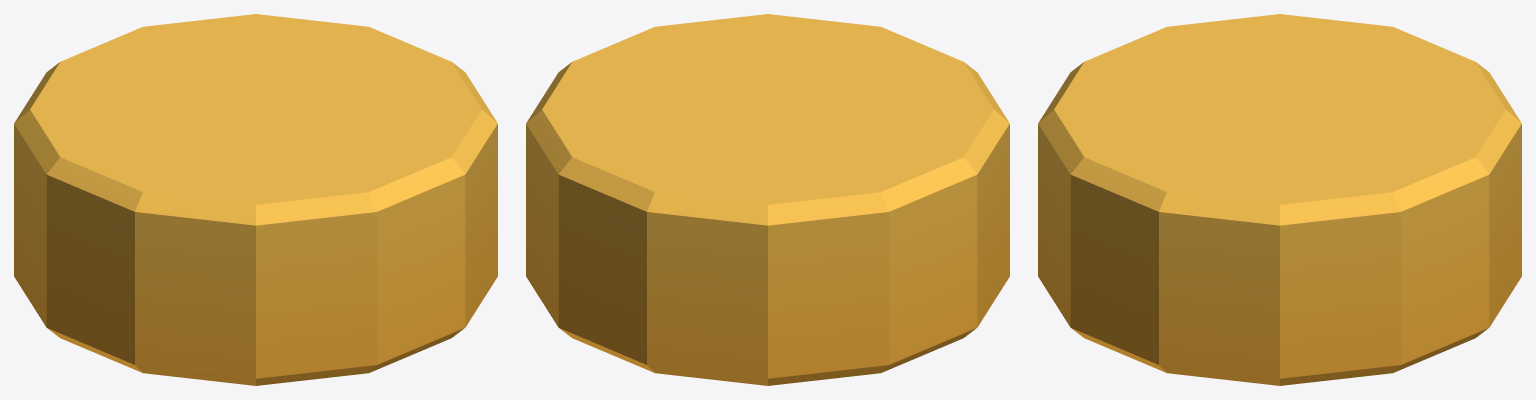
File: cheese.glb
3 renders of one model, left to right at view 1: azimuth 30°, elevation 25°; view 2: azimuth 150°, elevation 25°; view 3: azimuth 270°, elevation 25°, orthographic.
Visible parts, largest first — view 1: cheese; view 2: cheese; view 3: cheese.
Boxes of the visible parts, x1,y1,x2,y2 form: cheese: (14, 14, 497, 385); cheese: (526, 14, 1009, 385); cheese: (1038, 14, 1521, 385).
Bounding box in the file's own units: 0.5191 × 0.2144 × 0.5191.
Materials: 1 (1 with a texture image).
